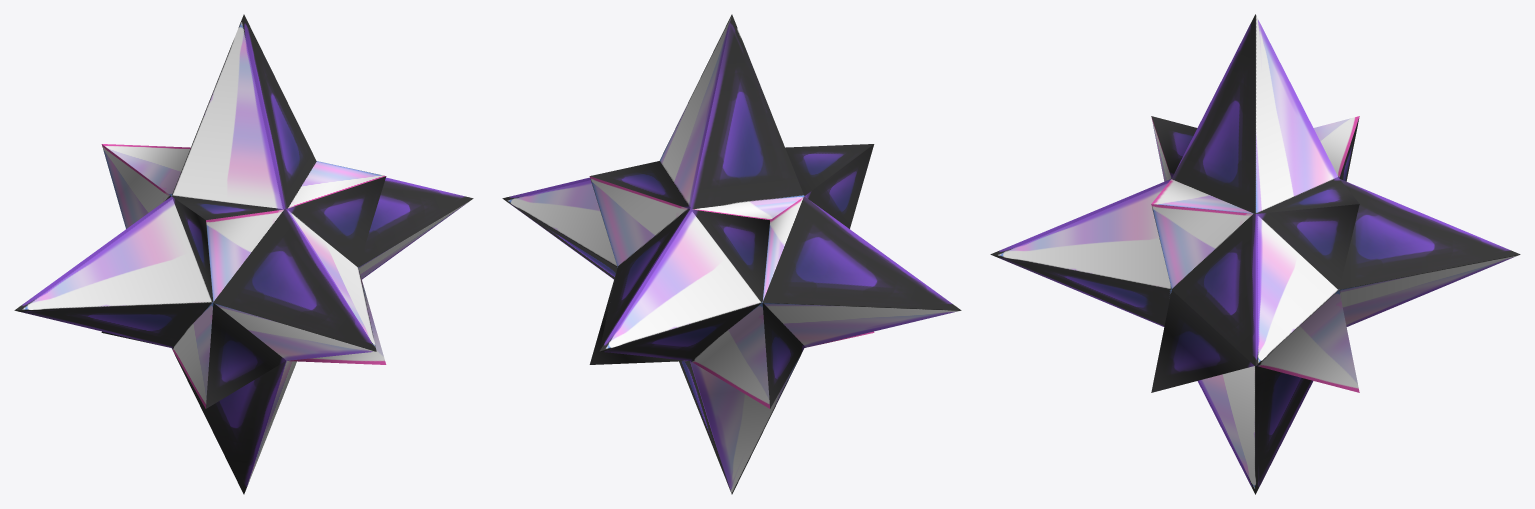
Rendered from star_point.fbx.
3 views of the same model, side by side, from view 1: azimuth 30°, elevation 25°; view 2: azimuth 150°, elevation 25°; view 3: azimuth 270°, elevation 25° (orthographic).
Parts seen in each view (by area): view 1: SaintQuartz; view 2: SaintQuartz; view 3: SaintQuartz.
Boxes of the visible parts, box(x1,y1,x2,y2) form: SaintQuartz: box(14, 14, 473, 494); SaintQuartz: box(502, 14, 961, 494); SaintQuartz: box(990, 14, 1520, 494).
Bounding box in the file's own units: 90.75 × 90.75 × 90.75.
1 material, 1 textured.
